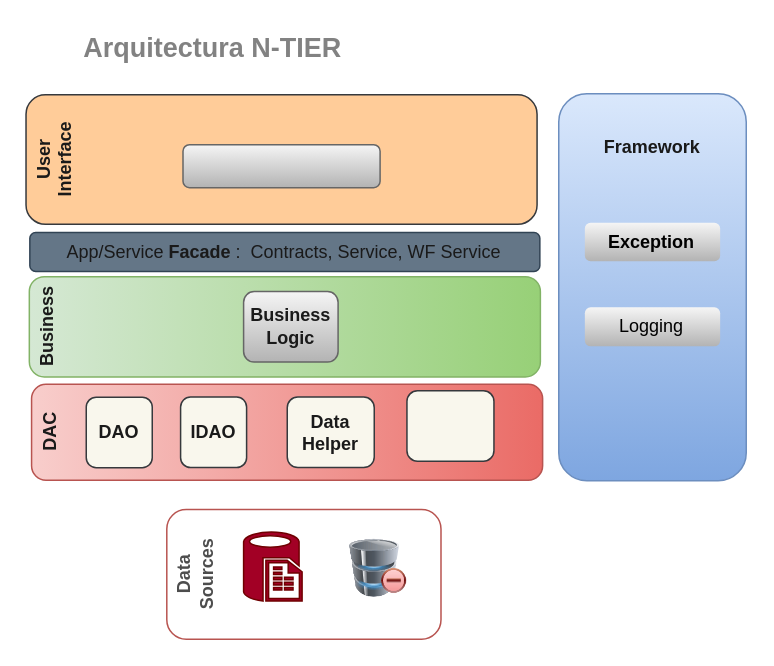
Image size: 774x666. Some labels were removed from this diagram. The centre of each missing label's shape, as x and y in pixels:
"database" goes at (377,567).
"DTO" goes at (449,425).
"SQLITE" goes at (272,566).
"UI Component" goes at (281,165).
